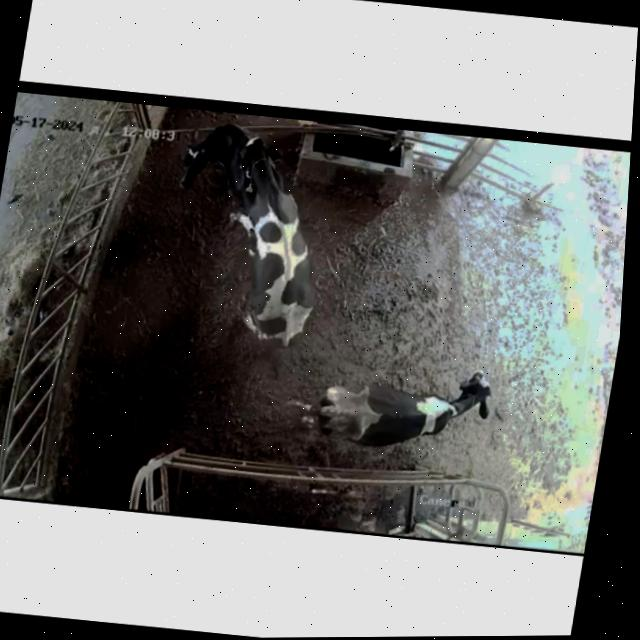ride: (200, 134, 356, 366)
stand: (288, 342, 513, 475), (169, 111, 257, 204)
